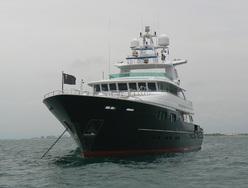yacht: (40, 26, 206, 155)
